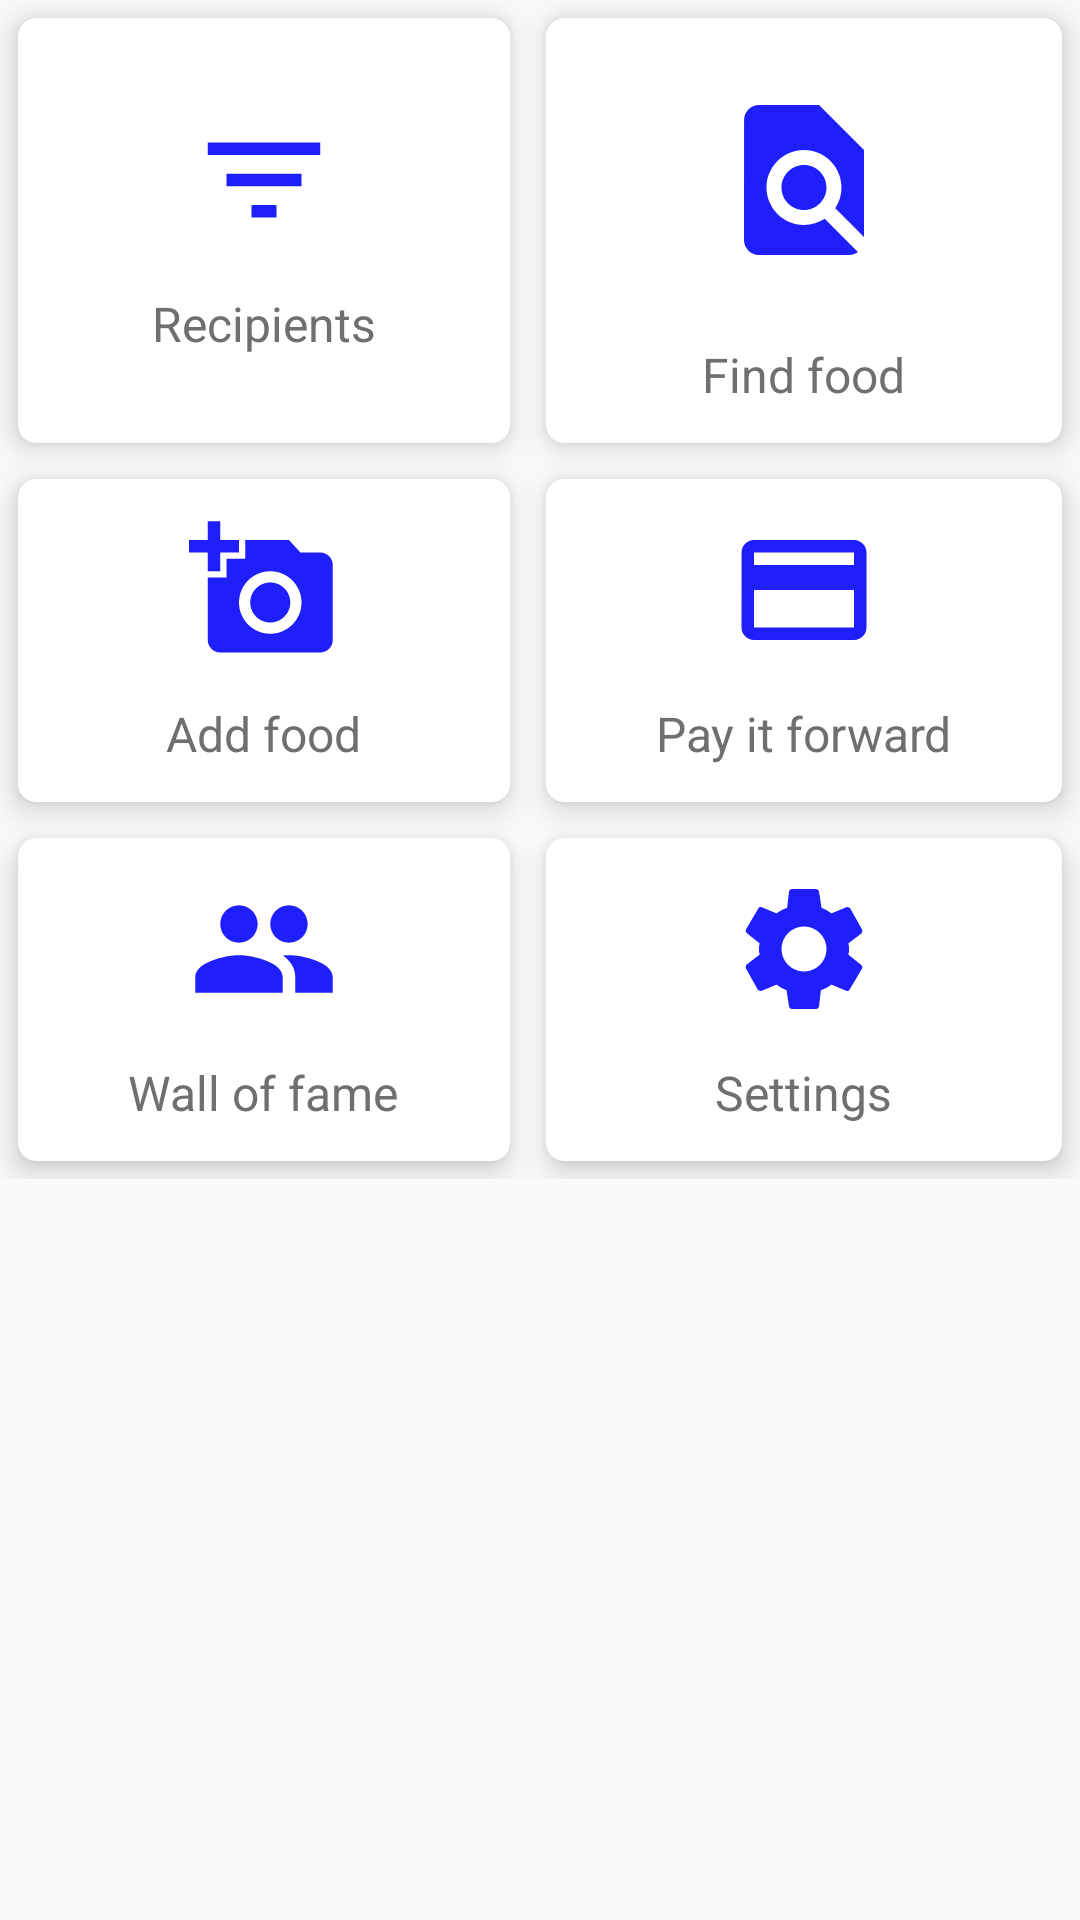

Icon click points for this 1080*1920 phone screenshot, format [x,y]:
addphoto: [261,587]
payment: [804,590]
people: [264,949]
